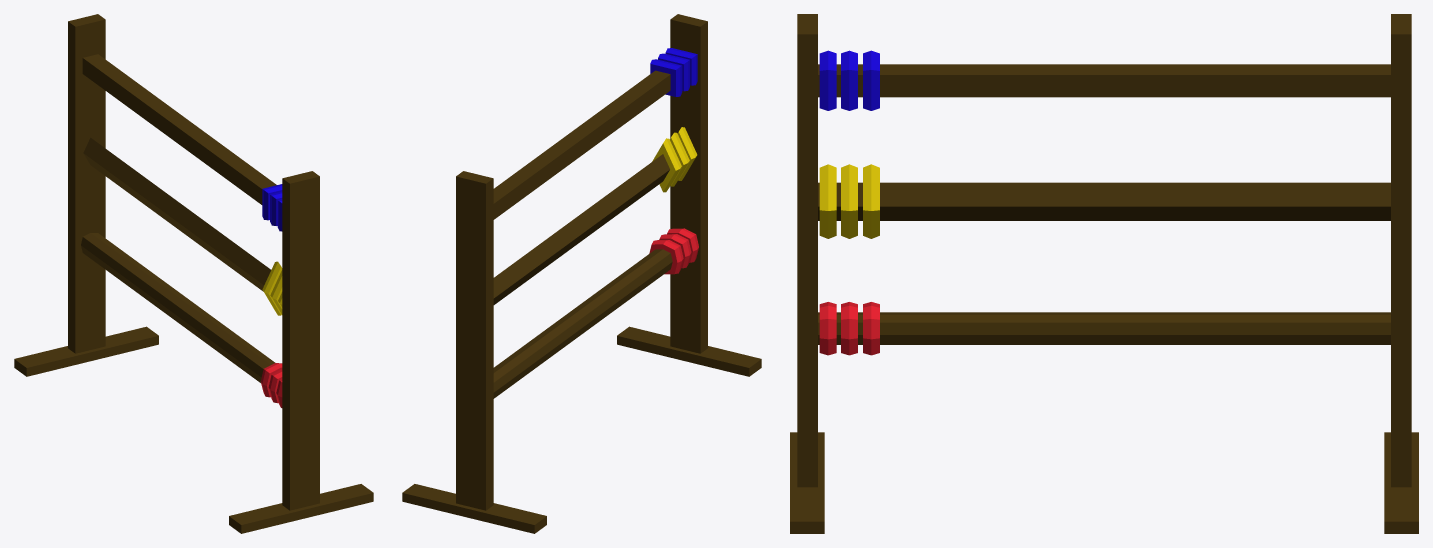
The model's file is Abacus.fbx.
The picture shows the model from 3 angles, left to right: view 1: azimuth 30°, elevation 25°; view 2: azimuth 150°, elevation 25°; view 3: azimuth 270°, elevation 25°; orthographic projection. The views are drawn at different scales.
Parts seen in each view (by area): view 1: _Rack, C, D3_c; view 2: _Rack, C, S3_c, D3_c, C3_c, S2_c, S1_c, D2_c, D1_c; view 3: _Rack, C, D1_c, D3_c, D2_c, S1_c, S2_c, S3_c, C1_c, C2_c, C3_c.
Boxes of the visible parts, x1=… form: _Rack: x1=14, y1=14, x2=373, y2=533; C: x1=81, y1=233, x2=275, y2=382; D3_c: x1=262, y1=261, x2=282, y2=315; _Rack: x1=402, y1=14, x2=761, y2=533; C: x1=493, y1=249, x2=672, y2=398; S3_c: x1=650, y1=59, x2=682, y2=96; D3_c: x1=652, y1=138, x2=681, y2=192; C3_c: x1=649, y1=240, x2=683, y2=274; S2_c: x1=658, y1=53, x2=689, y2=91; S1_c: x1=665, y1=48, x2=697, y2=85; D2_c: x1=669, y1=132, x2=689, y2=186; D1_c: x1=677, y1=127, x2=697, y2=180; _Rack: x1=790, y1=14, x2=1418, y2=533; C: x1=818, y1=312, x2=1390, y2=344; D1_c: x1=819, y1=164, x2=836, y2=238; D3_c: x1=863, y1=164, x2=879, y2=238; D2_c: x1=841, y1=164, x2=857, y2=238; S1_c: x1=819, y1=50, x2=836, y2=110; S2_c: x1=841, y1=50, x2=857, y2=110; S3_c: x1=863, y1=50, x2=879, y2=110; C1_c: x1=819, y1=302, x2=836, y2=355; C2_c: x1=841, y1=302, x2=857, y2=355; C3_c: x1=863, y1=302, x2=879, y2=355.
Bounding box in the file's own units: 51.44 × 125 × 153.
